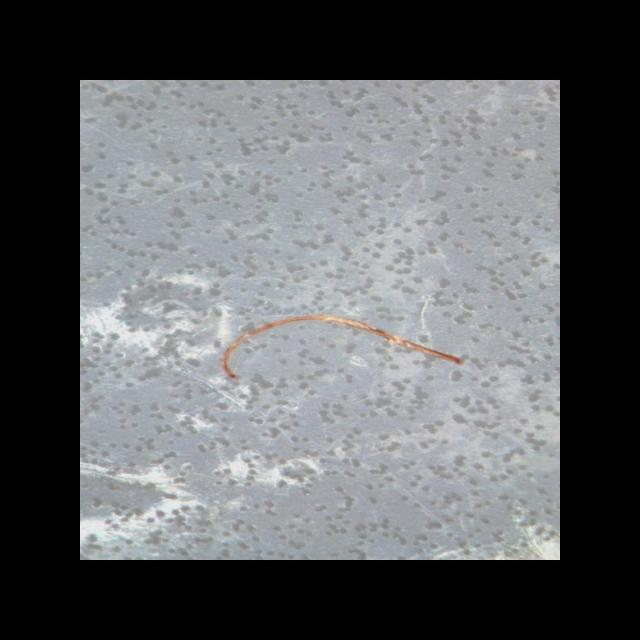Fibre: (218, 314, 468, 391)
